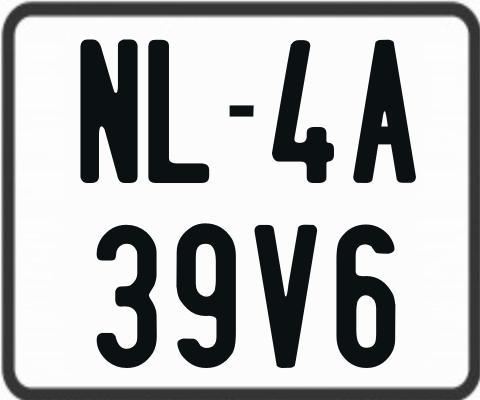3: (96, 224, 162, 373)
4: (272, 40, 339, 187)
6: (334, 224, 398, 371)
9: (175, 222, 236, 369)
A: (351, 38, 420, 186)
L: (145, 38, 209, 181)
N: (79, 39, 140, 184)
V: (253, 225, 319, 370)
